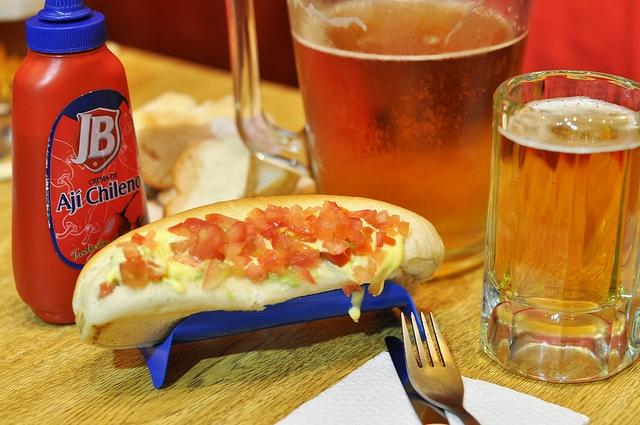tomato: (120, 257, 150, 289), (202, 259, 231, 292), (258, 248, 288, 276), (312, 212, 339, 240), (238, 234, 268, 258), (285, 212, 312, 237), (320, 247, 353, 267), (282, 248, 314, 268), (197, 242, 226, 262), (290, 264, 318, 284), (205, 214, 241, 229), (364, 208, 389, 229), (244, 262, 268, 282), (344, 226, 366, 247), (266, 208, 290, 227), (184, 218, 212, 234), (272, 232, 294, 252), (352, 265, 374, 285), (227, 222, 247, 244), (173, 253, 202, 267), (320, 200, 340, 219), (328, 238, 349, 256), (332, 217, 348, 240), (282, 205, 302, 223), (168, 239, 190, 255), (168, 222, 190, 237), (353, 238, 372, 255), (342, 281, 362, 297), (205, 224, 226, 239), (376, 232, 396, 247), (244, 218, 259, 238), (123, 246, 142, 260), (246, 208, 266, 220), (398, 220, 410, 238), (131, 232, 146, 246), (344, 210, 370, 218), (386, 215, 401, 228), (376, 210, 389, 223), (190, 232, 200, 247), (299, 211, 308, 219)
